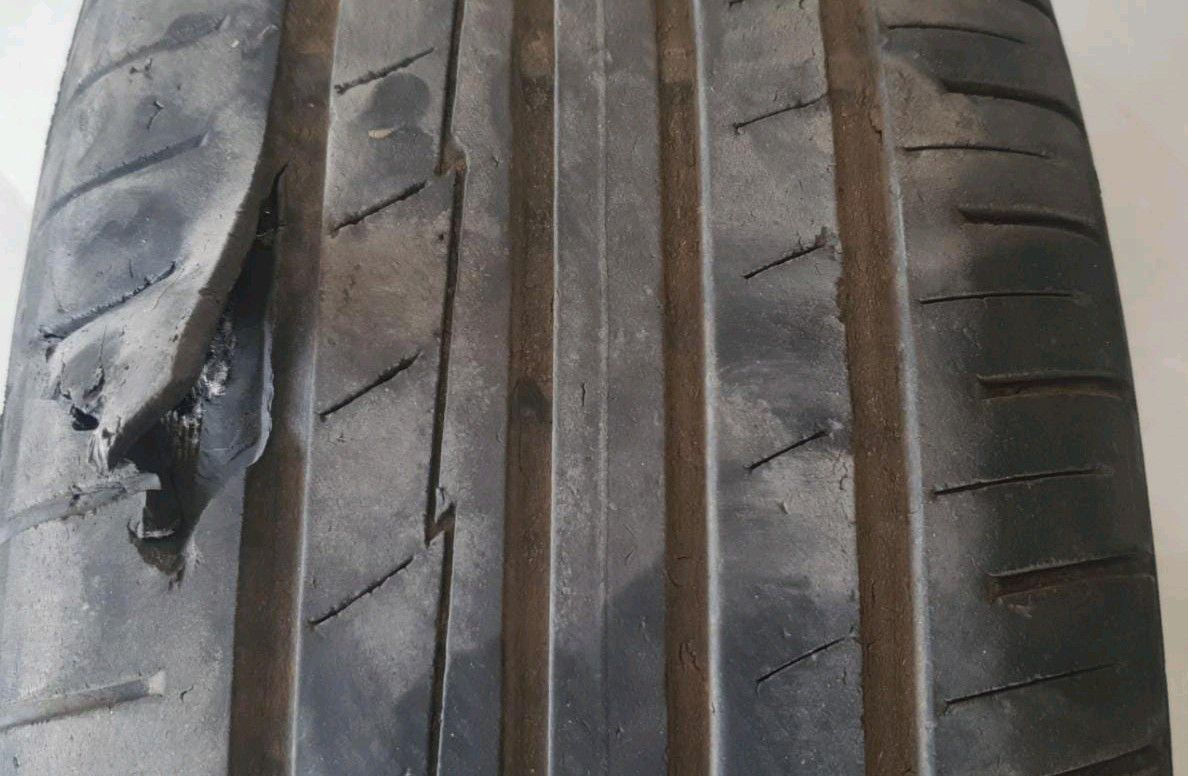tr: (99, 155, 295, 592), (41, 362, 110, 435)
